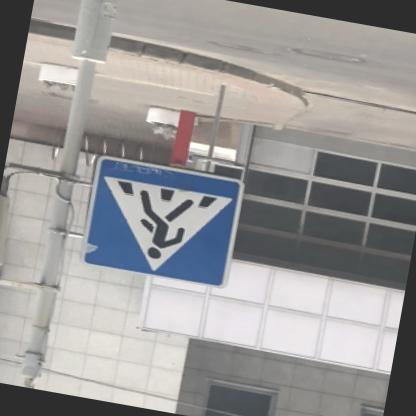crosswalk: (78, 155, 246, 292)
